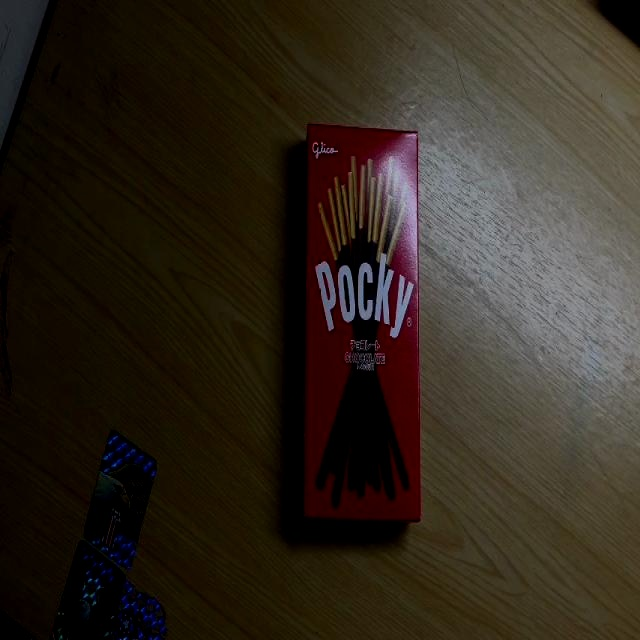Pocky: (302, 121, 421, 524)
